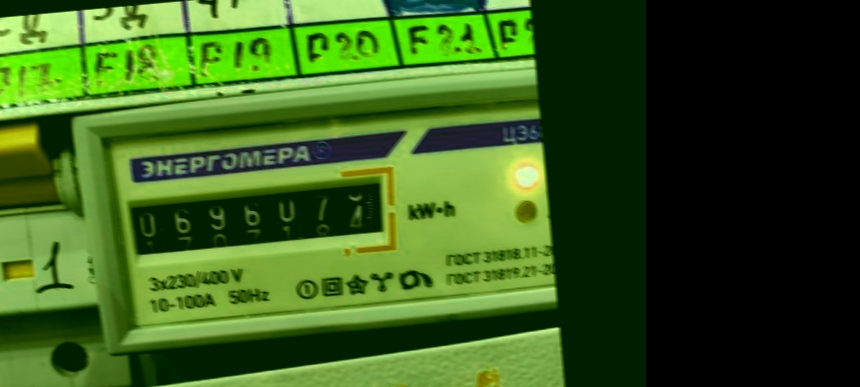0: (135, 205, 157, 237), (275, 189, 296, 221)
4: (343, 199, 364, 229)
6: (168, 201, 193, 232), (240, 194, 262, 224)
7: (310, 187, 329, 219)
9: (205, 199, 226, 229)
screen: (108, 156, 400, 272)
